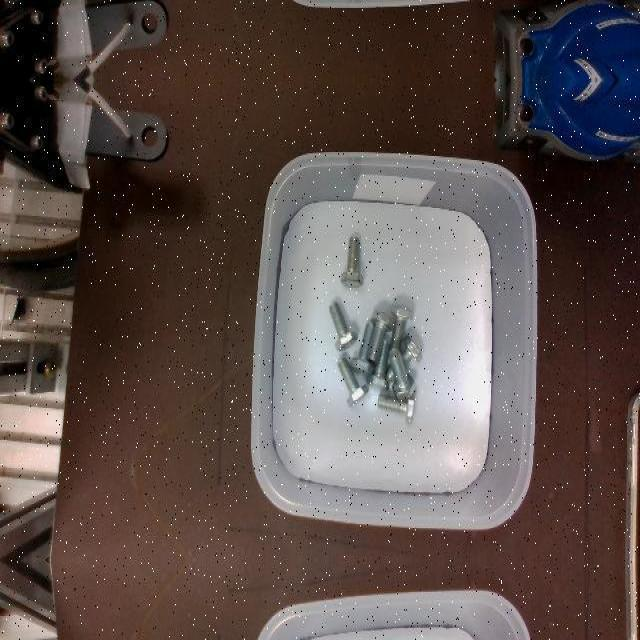screw: (336, 357, 368, 407), (328, 300, 358, 350), (367, 311, 394, 365), (388, 348, 416, 400), (339, 236, 363, 288)
